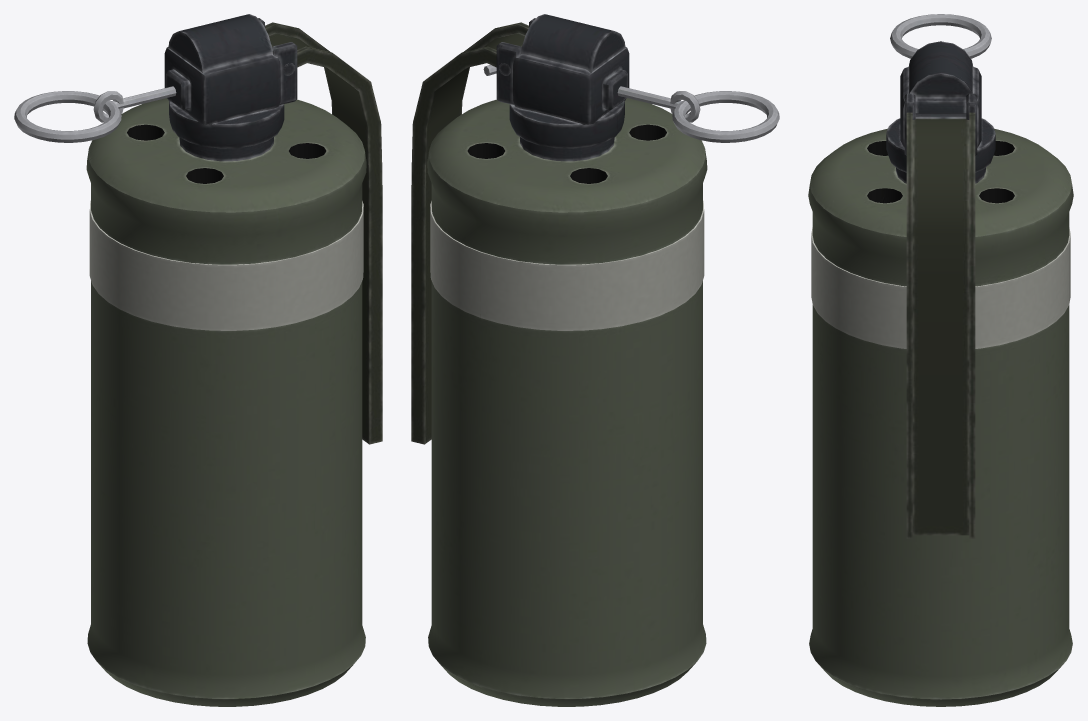
Rendered from grenade_smoke.glb.
The picture shows the model from 3 angles, left to right: view 1: azimuth 30°, elevation 25°; view 2: azimuth 150°, elevation 25°; view 3: azimuth 270°, elevation 25°; orthographic projection. The views are drawn at different scales.
Visible parts, largest first — view 1: GrenadeSmoke, spoon, pin; view 2: GrenadeSmoke, spoon, pin; view 3: GrenadeSmoke, spoon, pin.
Boxes of the visible parts, x1,y1,x2,y2 form: GrenadeSmoke: [86, 14, 366, 706]; spoon: [265, 22, 382, 444]; pin: [14, 86, 176, 142]; GrenadeSmoke: [427, 14, 707, 706]; spoon: [411, 22, 528, 444]; pin: [483, 65, 779, 142]; GrenadeSmoke: [808, 41, 1073, 706]; spoon: [906, 112, 975, 538]; pin: [890, 14, 991, 58].
Bounding box in the file's own units: 0.0876 × 0.1548 × 0.062.
1 material, 1 textured.
